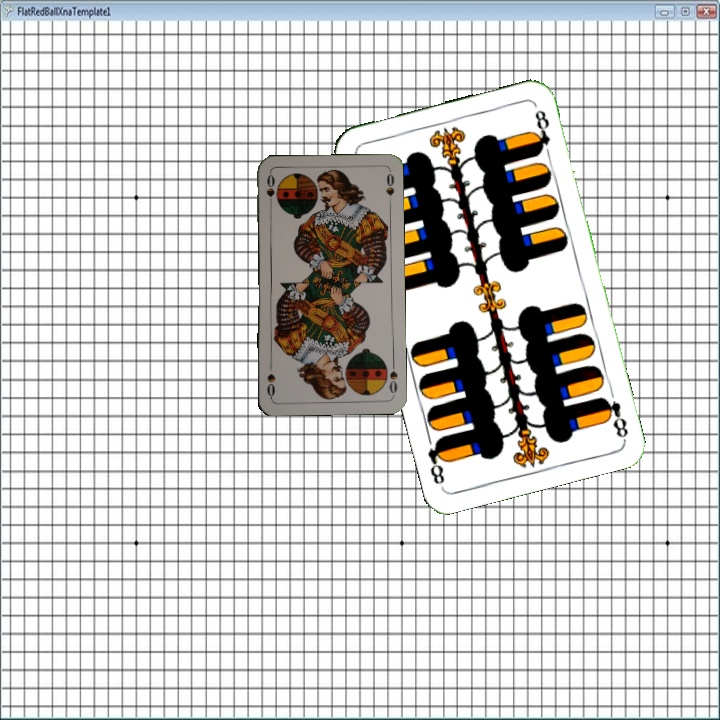E8: (597, 392, 631, 442)
SO: (262, 170, 277, 211), (385, 357, 400, 398)
